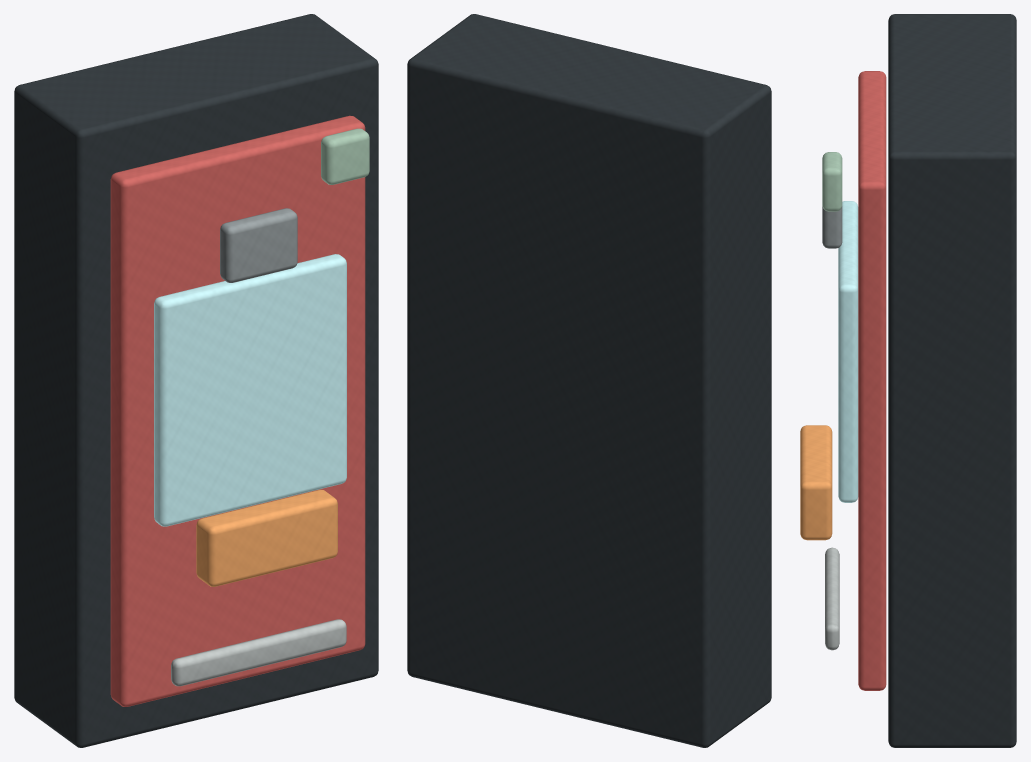
Rendered from WallFireAlarmPull.glb.
3 renders of one model, left to right at view 1: azimuth 30°, elevation 25°; view 2: azimuth 150°, elevation 25°; view 3: azimuth 270°, elevation 25°, orthographic. The views are drawn at different scales.
Parts seen in each view (by area): view 1: WallFireAlarmPull_Mesh; view 2: WallFireAlarmPull_Mesh; view 3: WallFireAlarmPull_Mesh.
Boxes of the visible parts, x1=… form: WallFireAlarmPull_Mesh: x1=14, y1=14, x2=378, y2=747; WallFireAlarmPull_Mesh: x1=407, y1=14, x2=771, y2=747; WallFireAlarmPull_Mesh: x1=800, y1=14, x2=1016, y2=747.
Bounding box in the file's own units: 0.42 × 0.82 × 0.27.
Materials: 7 (7 with a texture image).
